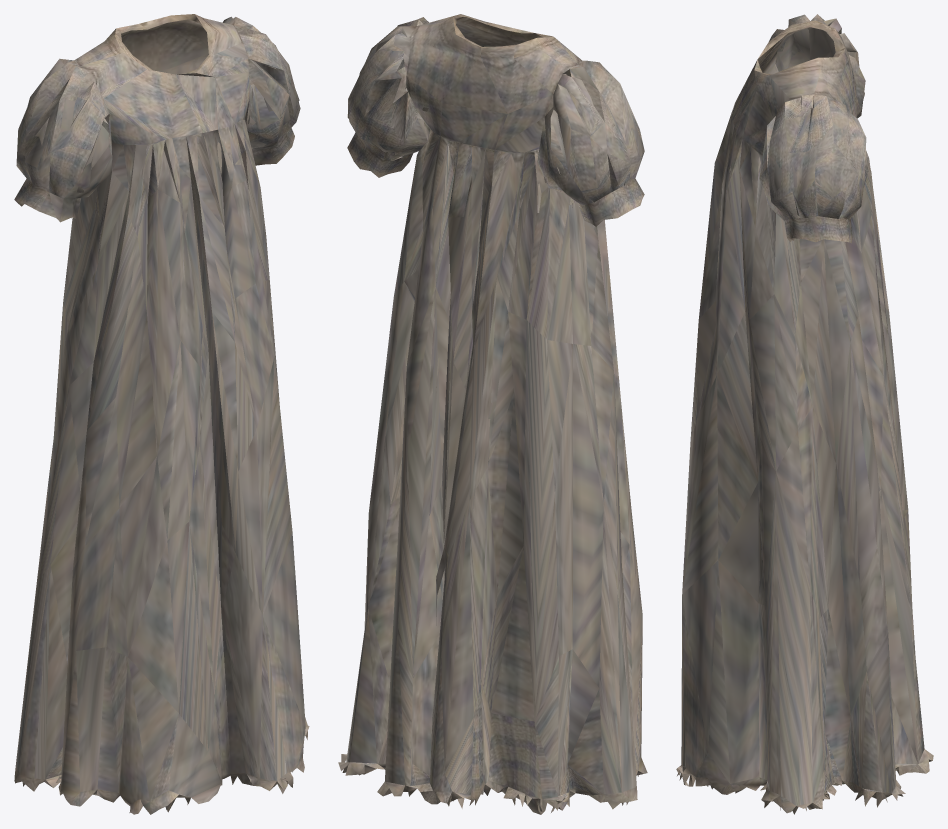
Rendered from dress_pale.glb.
The picture shows the model from 3 angles, left to right: view 1: azimuth 30°, elevation 25°; view 2: azimuth 150°, elevation 25°; view 3: azimuth 270°, elevation 25°; orthographic projection. The views are drawn at different scales.
Visible parts, largest first — view 1: dress_pale; view 2: dress_pale; view 3: dress_pale.
Boxes of the visible parts, bbox=[...] form: dress_pale: bbox=[14, 14, 309, 814]; dress_pale: bbox=[338, 14, 647, 814]; dress_pale: bbox=[676, 14, 933, 814].
Bounding box in the file's own units: 0.5931 × 1.5 × 0.4886.
Materials: 1 (1 with a texture image).
